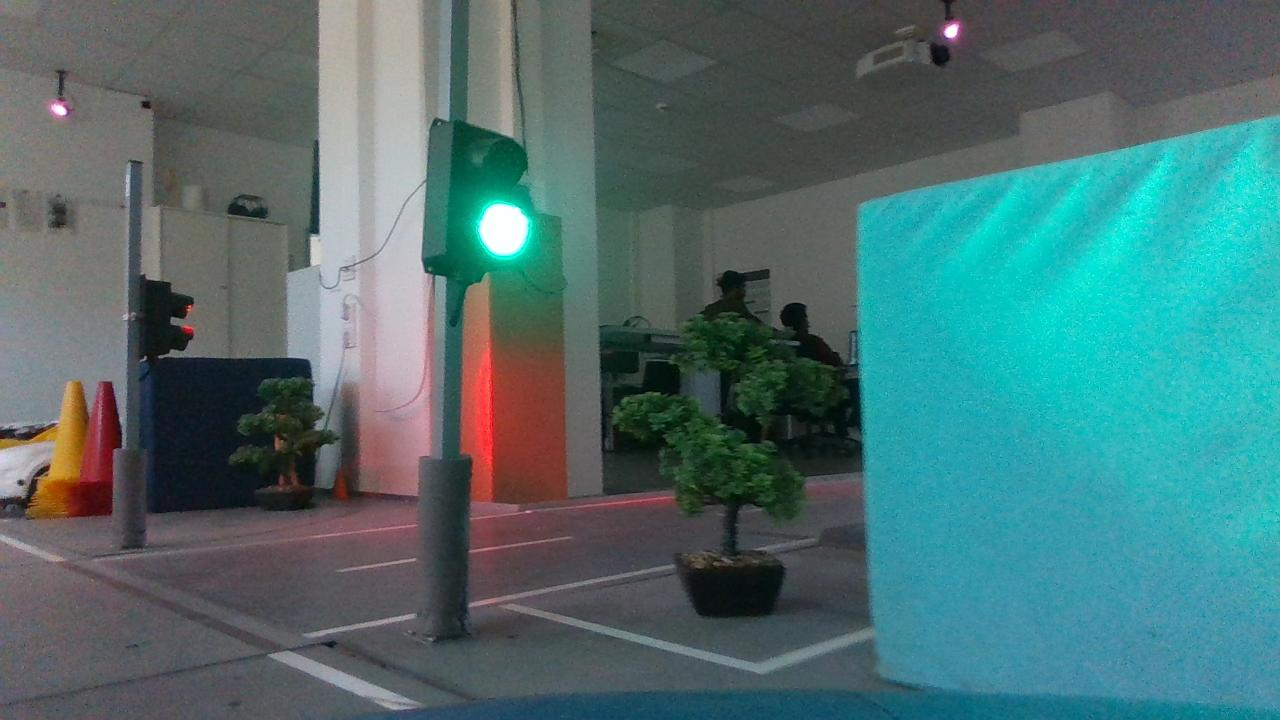traffic_light_green: (391, 102, 541, 299)
